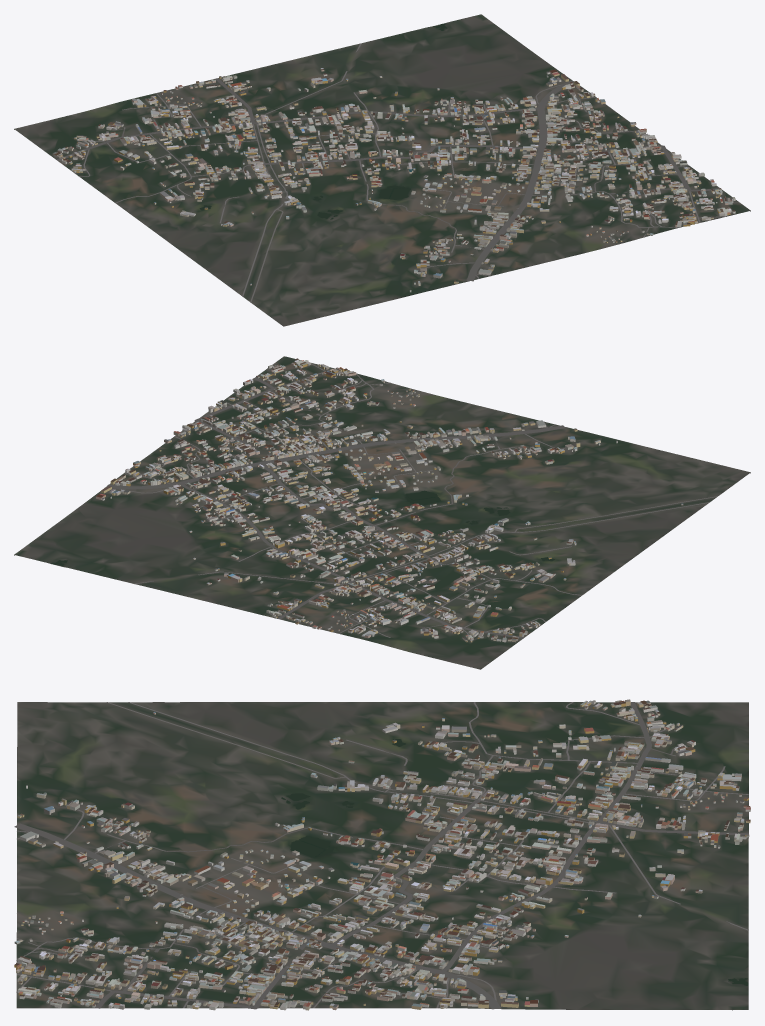
3 renders of one model, top to bottom at view 1: azimuth 30°, elevation 25°; view 2: azimuth 150°, elevation 25°; view 3: azimuth 270°, elevation 25°, orthographic. The views are drawn at different scales.
Visible parts, largest first — view 1: ground, buildings, roads, water; view 2: ground, buildings, roads, water; view 3: ground, buildings, roads, water.
Boxes of the visible parts, box(x1,y1,x2,y2) form: ground: box(14, 14, 750, 326); buildings: box(52, 68, 735, 292); roads: box(56, 43, 726, 302); water: box(199, 23, 447, 219); ground: box(14, 356, 750, 669); buildings: box(96, 358, 683, 642); roads: box(106, 363, 717, 638); water: box(51, 490, 554, 566); ground: box(16, 702, 748, 1010); buildings: box(14, 699, 750, 1010); roads: box(14, 701, 748, 1009); water: box(281, 739, 747, 985).
Bounding box in the file's own units: 1410 × 20.08 × 1410.
